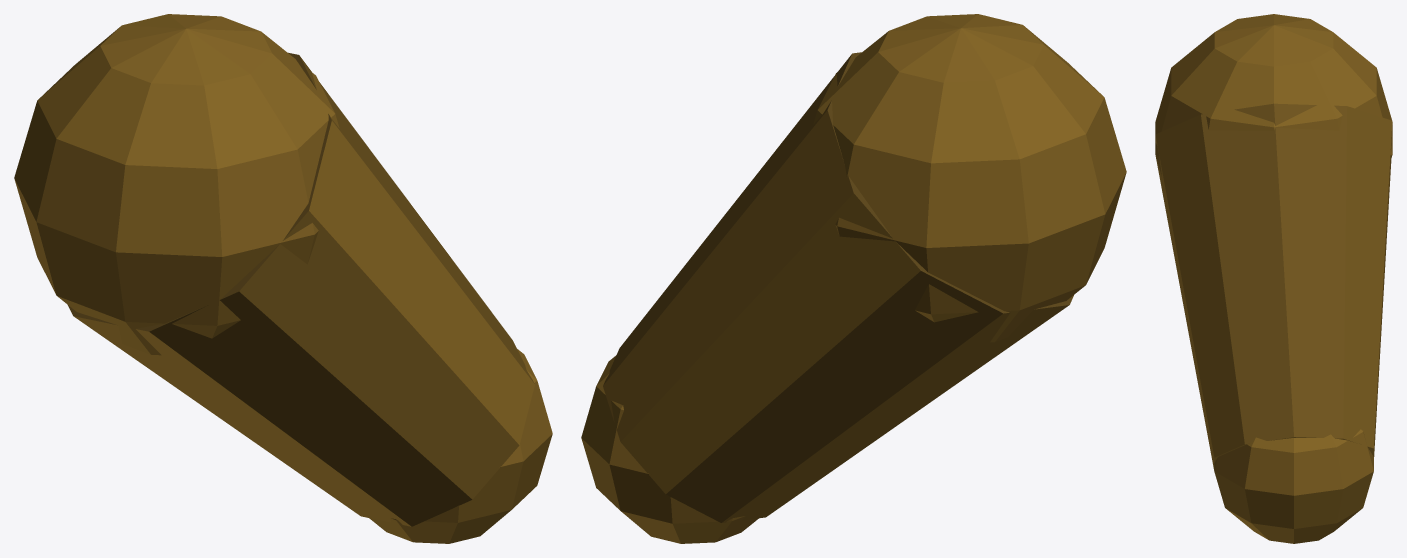
File: SM_triceratops_hind_l_Upper.fbx
The picture shows the model from 3 angles, left to right: view 1: azimuth 30°, elevation 25°; view 2: azimuth 150°, elevation 25°; view 3: azimuth 270°, elevation 25°; orthographic projection. The views are drawn at different scales.
Visible parts, largest first — view 1: SM_triceratops_hind_l_Upper export; view 2: SM_triceratops_hind_l_Upper export; view 3: SM_triceratops_hind_l_Upper export.
Boxes of the visible parts, <box> form: SM_triceratops_hind_l_Upper export: <box>14,14,552,543</box>; SM_triceratops_hind_l_Upper export: <box>581,14,1126,543</box>; SM_triceratops_hind_l_Upper export: <box>1155,14,1392,543</box>.
Bounding box in the file's own units: 179 × 98.91 × 192.
